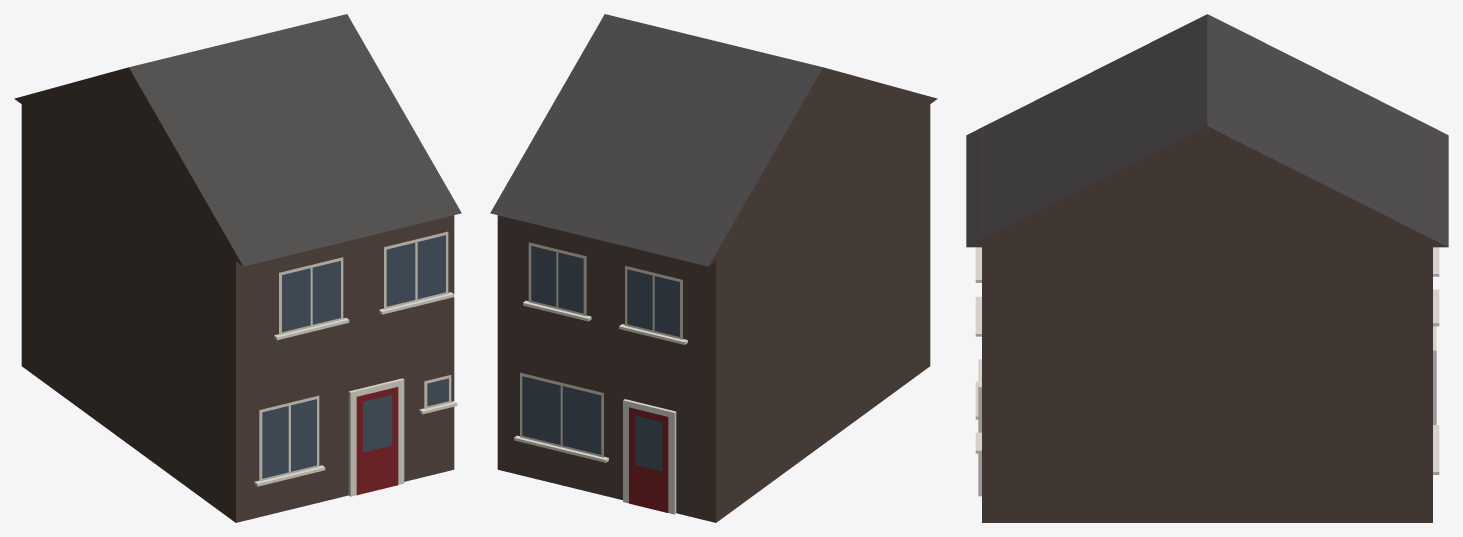
Rendered from nw-rowhouse-door-window__slate__2__gable__long__solid.glb.
3 views of the same model, side by side, from view 1: azimuth 30°, elevation 25°; view 2: azimuth 150°, elevation 25°; view 3: azimuth 270°, elevation 25° (orthographic). The views are drawn at different scales.
Parts seen in each view (by area): view 1: nw-rowhouse-door-window__slate__2__gable__long__solid; view 2: nw-rowhouse-door-window__slate__2__gable__long__solid; view 3: nw-rowhouse-door-window__slate__2__gable__long__solid.
Part boxes in pixels (box(x1,y1,x2,y2)): nw-rowhouse-door-window__slate__2__gable__long__solid: box(14, 14, 461, 522); nw-rowhouse-door-window__slate__2__gable__long__solid: box(490, 14, 937, 522); nw-rowhouse-door-window__slate__2__gable__long__solid: box(966, 14, 1448, 522).
Size of the model in its own units: 4.99 by 8.23 by 9.07.
